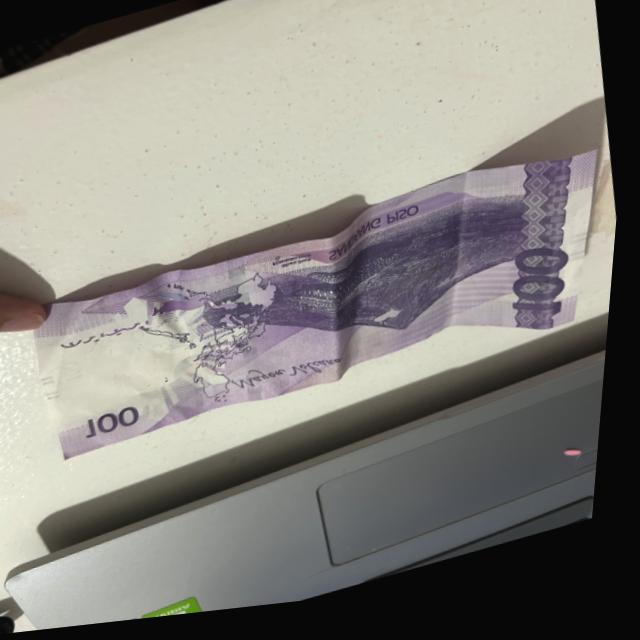100_whale: (269, 249, 424, 330)
100_whale_watermark: (155, 289, 221, 328)
value_watermark: (66, 357, 96, 388)
